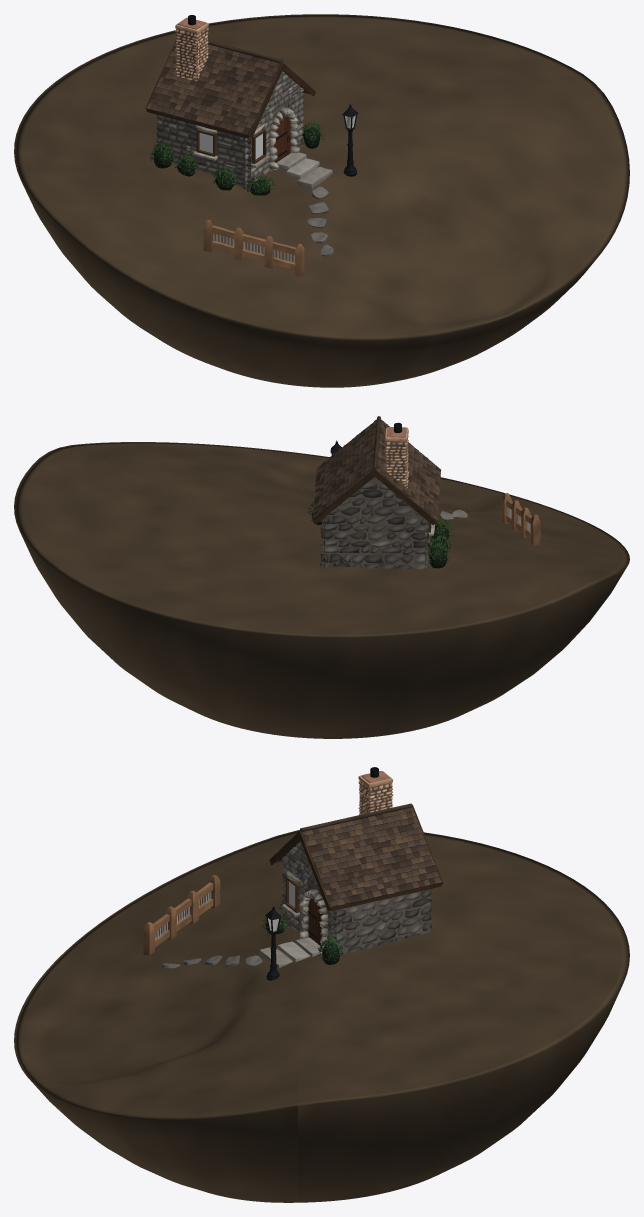
The model's file is village-model.glb.
3 renders of one model, top to bottom at view 1: azimuth 30°, elevation 25°; view 2: azimuth 150°, elevation 25°; view 3: azimuth 270°, elevation 25°, orthographic. The views are drawn at different scales.
Parts seen in each view (by area): view 1: ground, solid; view 2: ground, solid; view 3: ground, solid.
Boxes of the visible parts, <box> form: ground: <box>14,14,629,387</box>; solid: <box>145,15,358,276</box>; ground: <box>14,442,629,738</box>; solid: <box>308,416,540,570</box>; ground: <box>14,830,629,1202</box>; solid: <box>143,767,443,980</box>.
Bounding box in the file's own units: 105 × 57.3 × 99.13.
